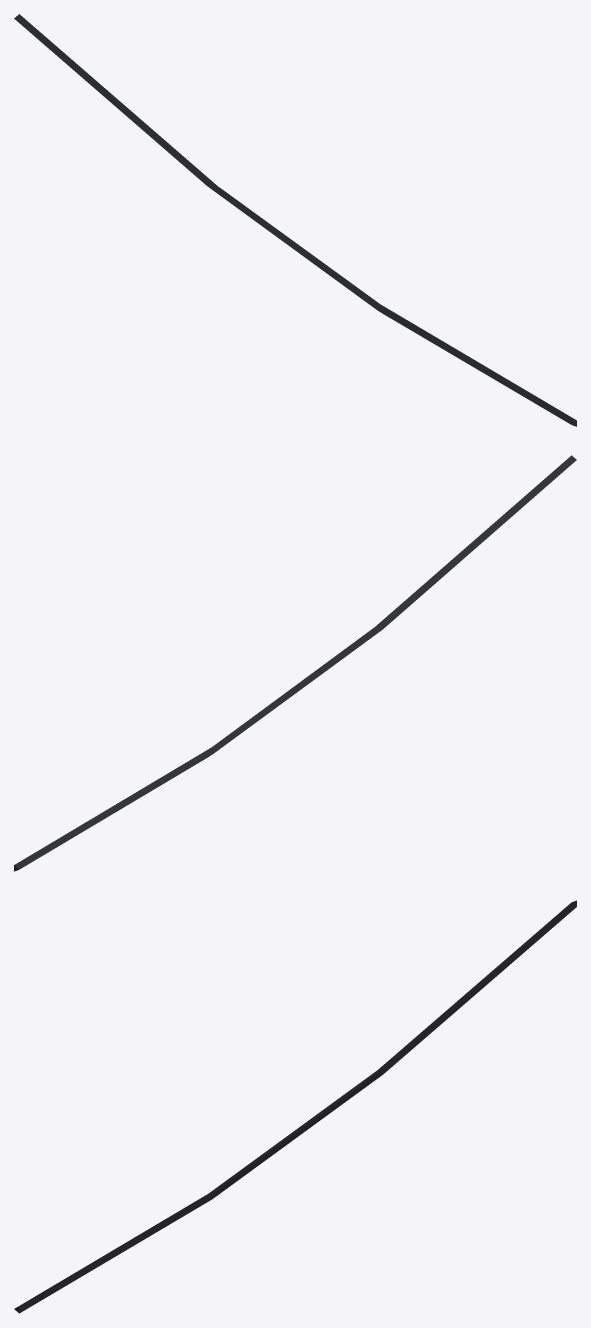
The model's file is SM_Prop_Powerline_02.glb.
3 views of the same model, one above another, from view 1: azimuth 30°, elevation 25°; view 2: azimuth 150°, elevation 25°; view 3: azimuth 330°, elevation 25° (orthographic).
Visible parts, largest first — view 1: SM_Prop_Powerline_02; view 2: SM_Prop_Powerline_02; view 3: SM_Prop_Powerline_02.
Part boxes in pixels (bbox=[...]): SM_Prop_Powerline_02: bbox=[14, 14, 576, 426]; SM_Prop_Powerline_02: bbox=[14, 455, 576, 871]; SM_Prop_Powerline_02: bbox=[14, 900, 576, 1313].
Size of the model in its own units: 0.0464 by 0.2653 by 7.7.
1 material, 1 textured.
